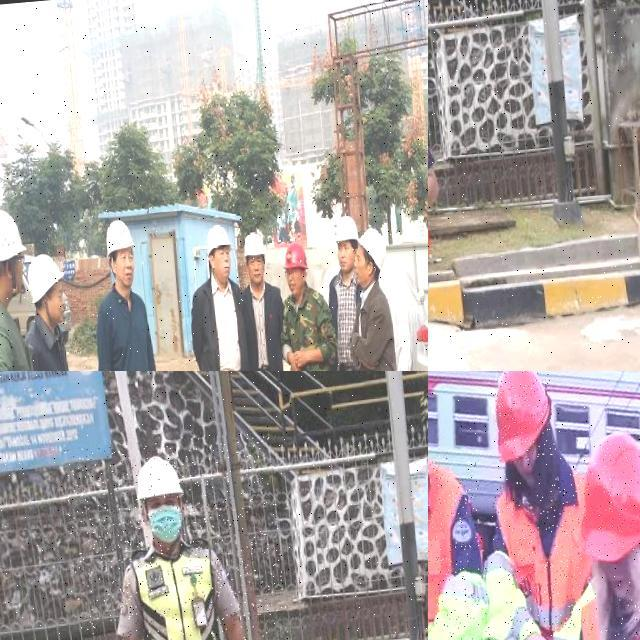helmet: (574, 431, 640, 559), (490, 371, 556, 463), (134, 446, 194, 506), (26, 253, 68, 304), (357, 226, 391, 274), (0, 206, 26, 263), (103, 218, 136, 256), (204, 222, 233, 258), (281, 242, 309, 272), (332, 214, 360, 243), (241, 232, 266, 263)
vest: (490, 472, 594, 637), (428, 455, 494, 640), (133, 536, 236, 640)
